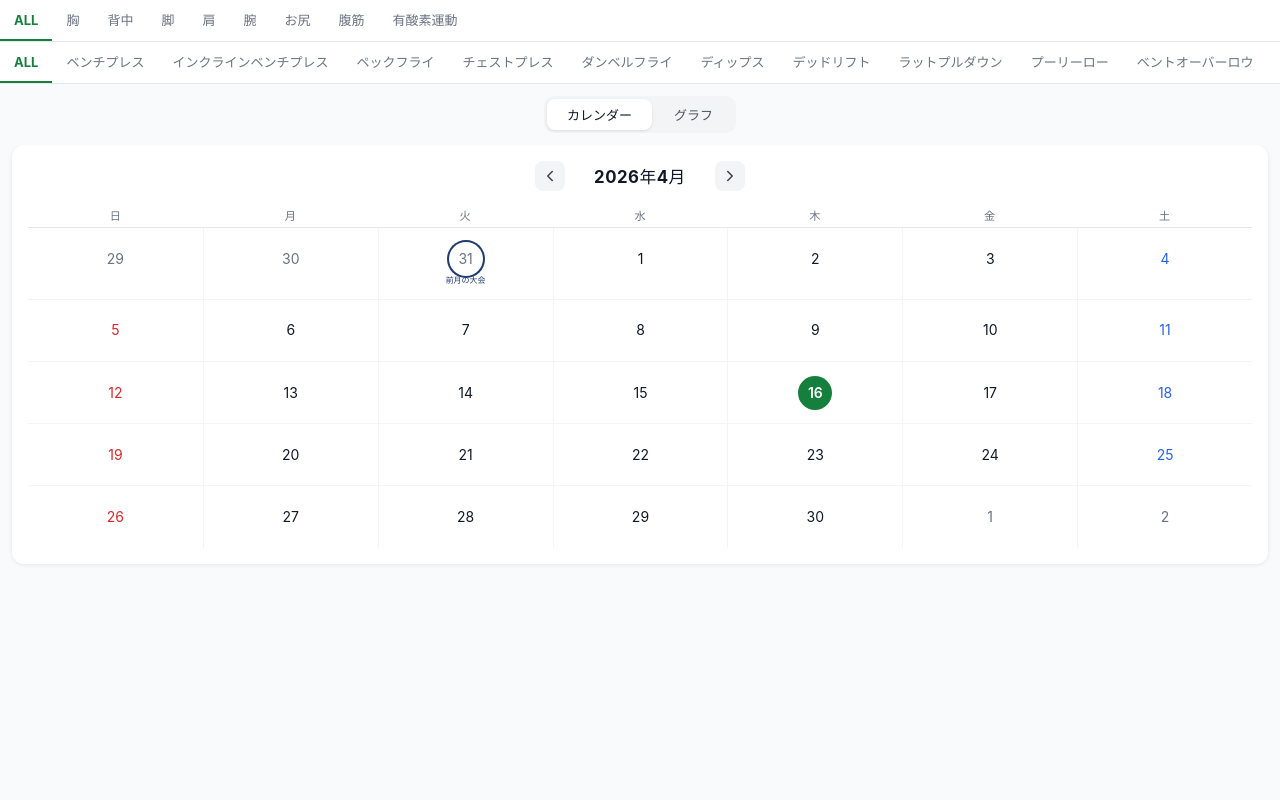
HistoryPage — 日付を押したとき › 前の月・次の月のセルに大会があれば、そこを押してもポップアップが開く
What coordinates should you click on to do the following:
click the button "31 前月の大会"
I would click on:
 (465, 263)
Its box is [378,228,553,299].
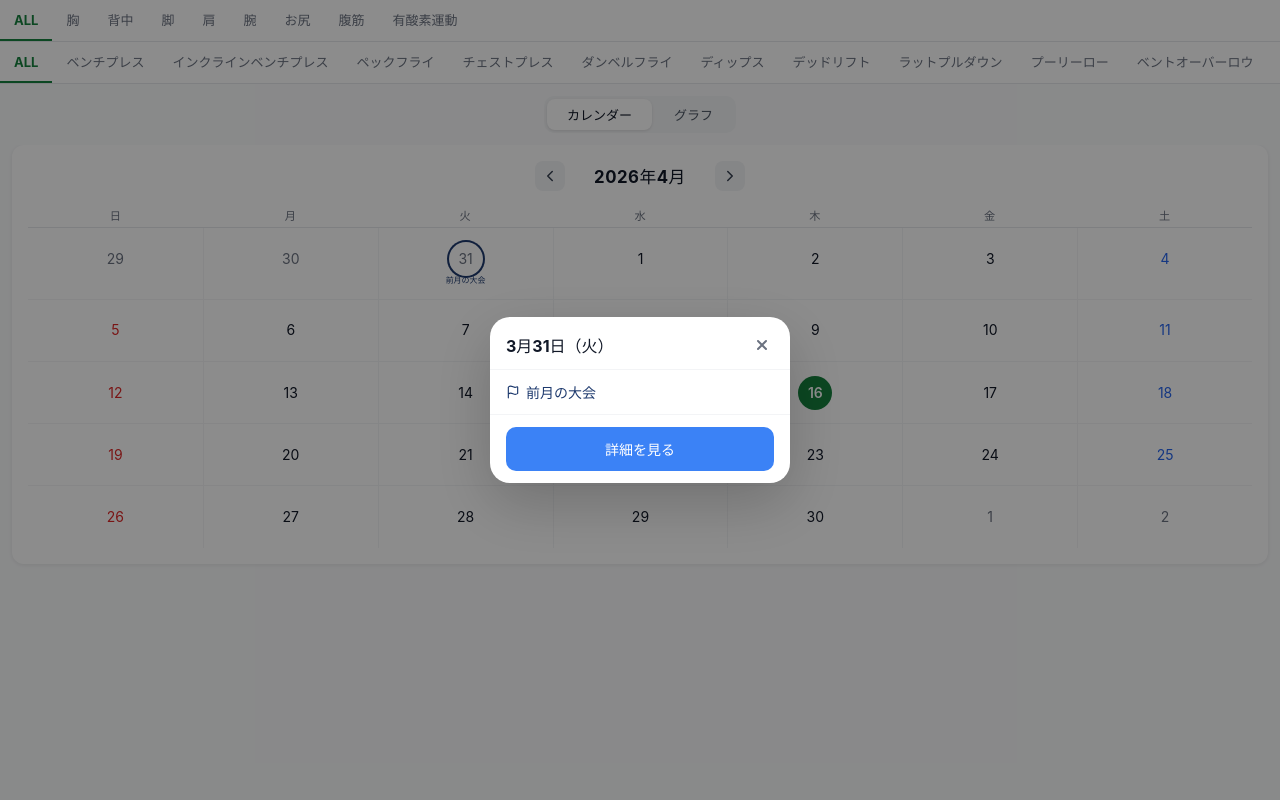
Expected: the element with test id "popup-overlay" is shown
Expected: the text "前月の大会" is shown, [526,382,596,402]
